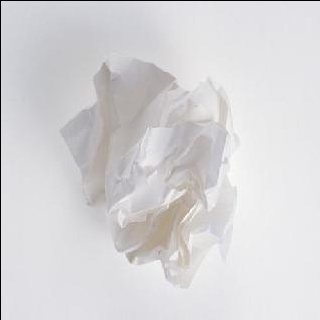8/可回收垃圾/纸: (58, 54, 236, 288)
